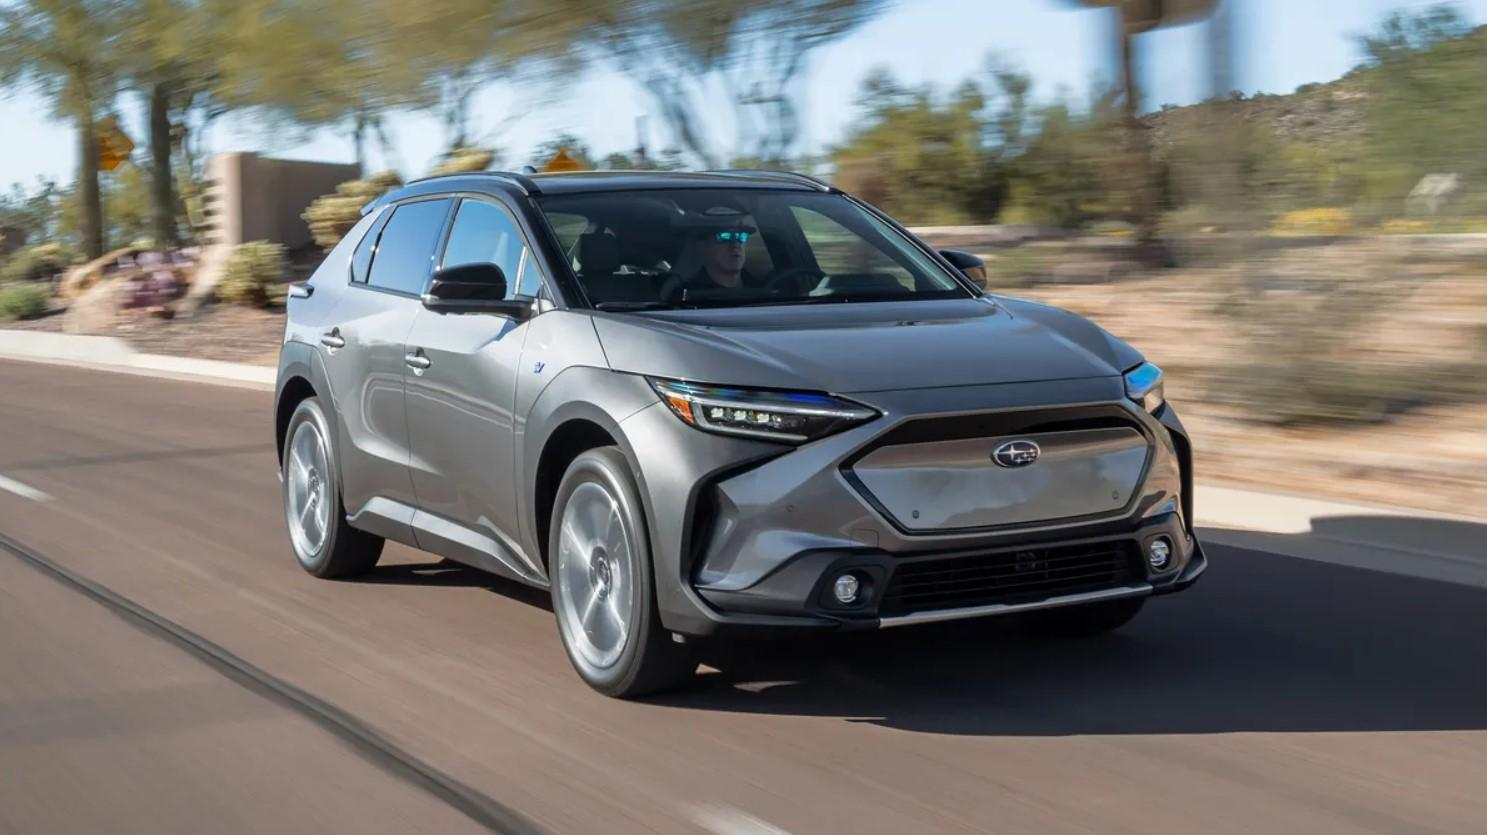subaru: (987, 431, 1063, 476)
